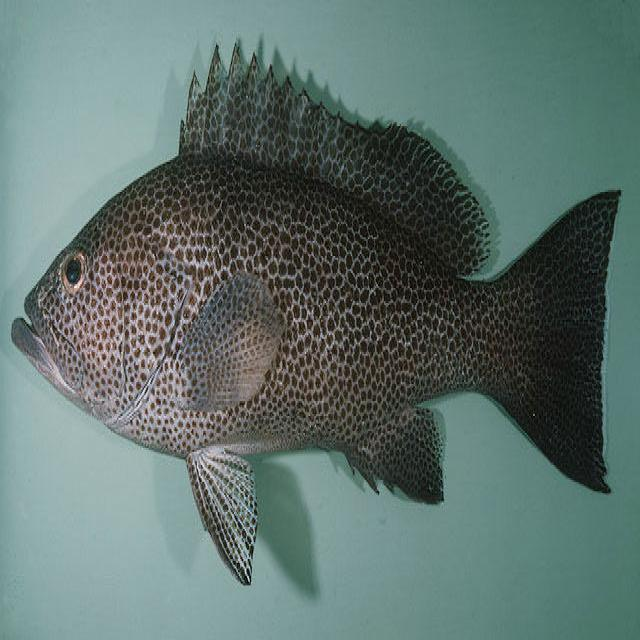ikan: (10, 38, 622, 586)
